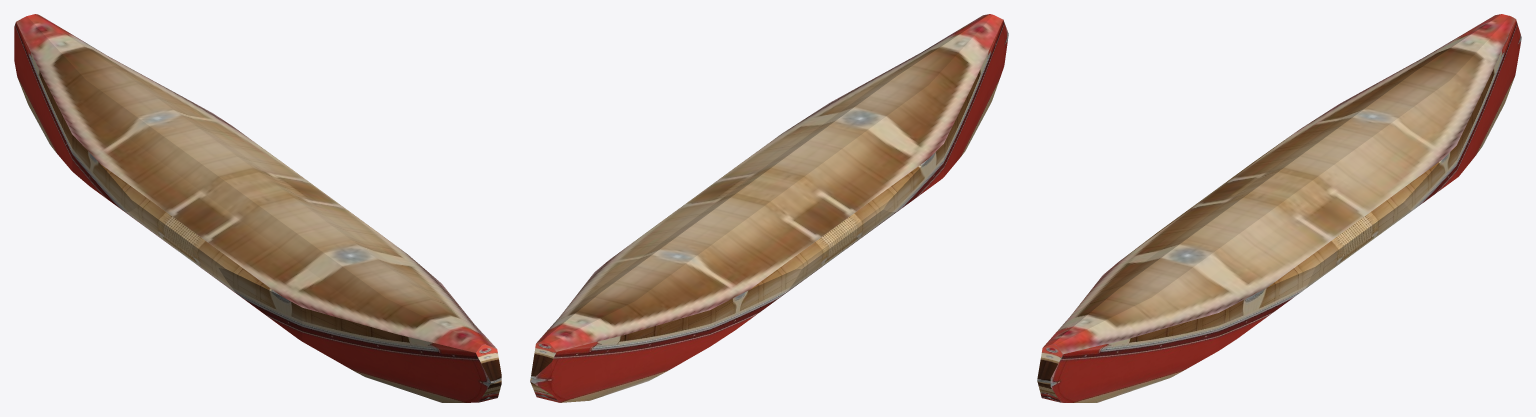
File: canoe_kayak.glb
The picture shows the model from 3 angles, left to right: view 1: azimuth 30°, elevation 25°; view 2: azimuth 150°, elevation 25°; view 3: azimuth 330°, elevation 25°; orthographic projection.
Visible parts, largest first — view 1: canoe_kayak; view 2: canoe_kayak; view 3: canoe_kayak.
Boxes of the visible parts, x1,y1,x2,y2 form: canoe_kayak: (14,14,501,402); canoe_kayak: (530,14,1008,402); canoe_kayak: (1037,14,1521,402).
Bounding box in the file's own units: 0.8918 × 0.4959 × 4.8.
Materials: 2 (1 with a texture image).
